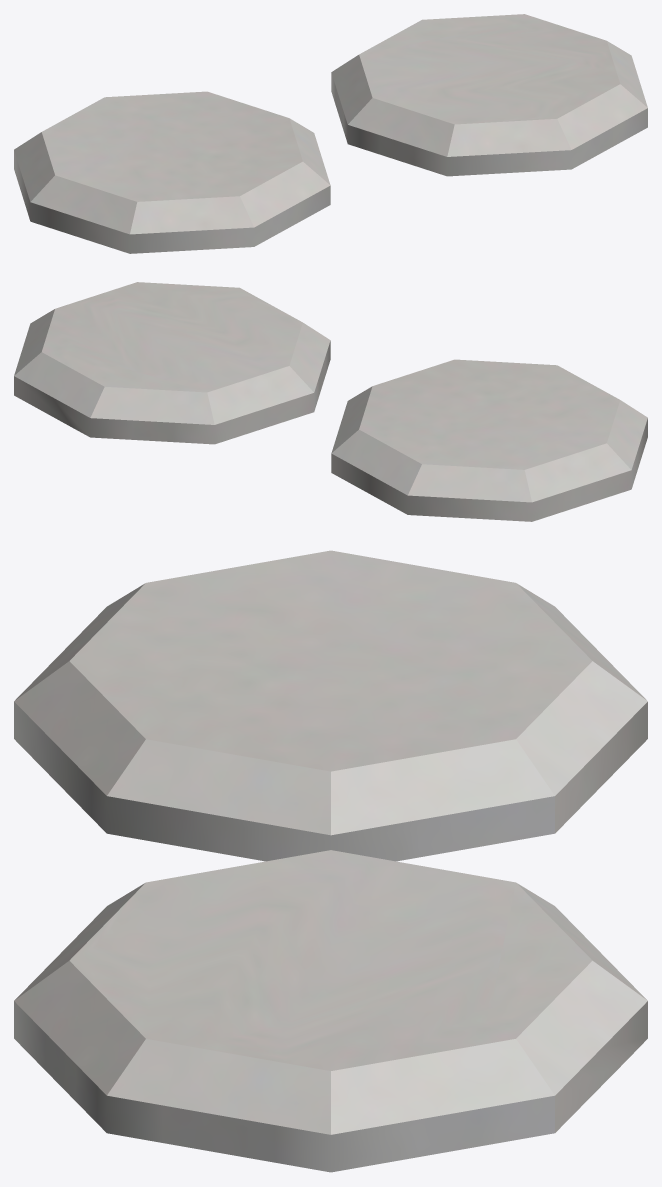
File: plate1_broken.FBX
The picture shows the model from 3 angles, top to bottom: view 1: azimuth 30°, elevation 25°; view 2: azimuth 150°, elevation 25°; view 3: azimuth 270°, elevation 25°; orthographic projection. The views are drawn at different scales.
Visible parts, largest first — view 1: Object001, Object009, Object008, Object007, Object004, Object010; view 2: Object001, Object010, Object007, Object004, Object009, Object008; view 3: Object001, Object004, Object008, Object007, Object009, Object010.
Part boxes in pixels (left/top/right/bottom): Object001: left=14, top=91, right=330, bottom=253; Object009: left=343, top=87, right=537, bottom=176; Object008: left=482, top=61, right=647, bottom=172; Object007: left=335, top=38, right=563, bottom=130; Object004: left=442, top=14, right=639, bottom=81; Object010: left=331, top=17, right=495, bottom=103; Object001: left=331, top=359, right=647, bottom=521; Object010: left=52, top=357, right=239, bottom=444; Object007: left=118, top=314, right=289, bottom=435; Object004: left=14, top=295, right=131, bottom=427; Object009: left=217, top=297, right=330, bottom=419; Object008: left=96, top=282, right=270, bottom=329; Object001: left=14, top=550, right=647, bottom=861; Object004: left=219, top=957, right=625, bottom=1172; Object008: left=14, top=922, right=291, bottom=1152; Object007: left=256, top=858, right=500, bottom=1020; Object009: left=61, top=850, right=376, bottom=961; Object010: left=470, top=874, right=647, bottom=1060.
Size of the model in its own units: 92.58 by 5.93 by 43.71.
4 materials, 4 textured.
